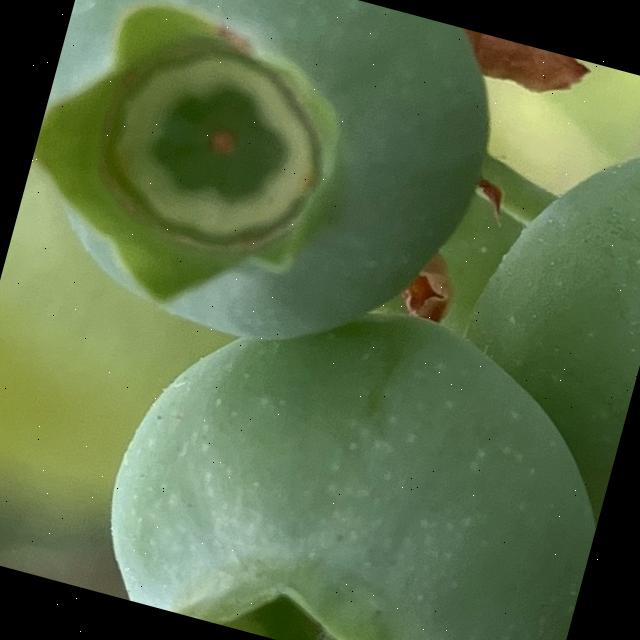Blueberries: (79, 244, 638, 640), (1, 0, 516, 386), (406, 67, 640, 578)
